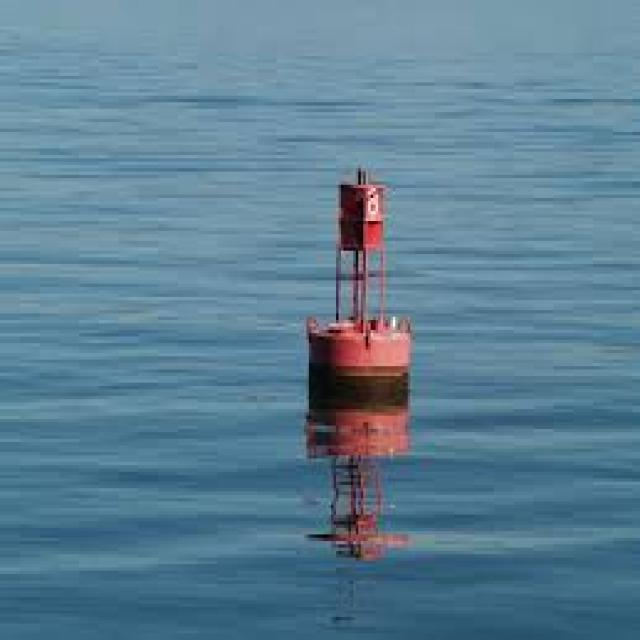marque: (283, 137, 427, 424)
